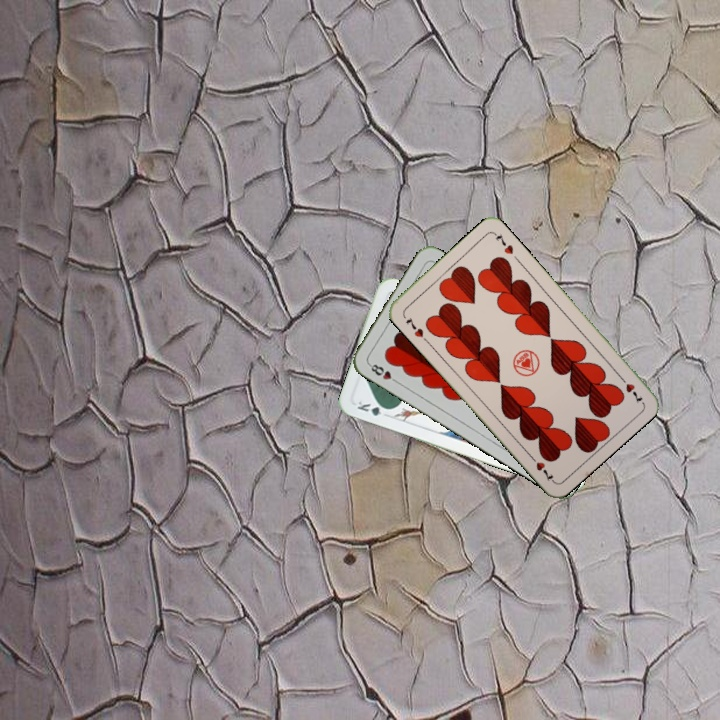GK: (353, 397, 393, 419)
H7: (615, 371, 645, 406), (402, 313, 430, 345)
H8: (365, 360, 402, 386)
